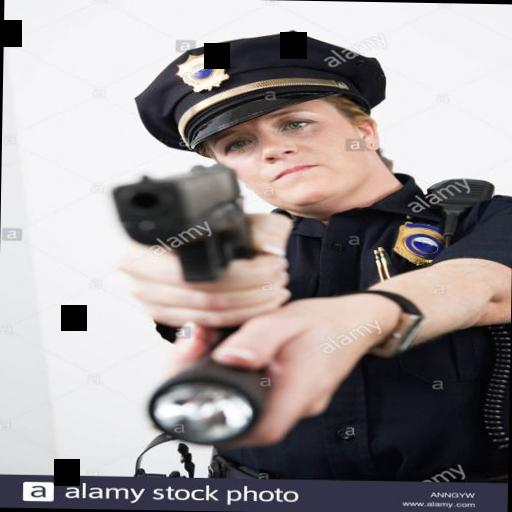Handgun: (104, 154, 258, 284)
